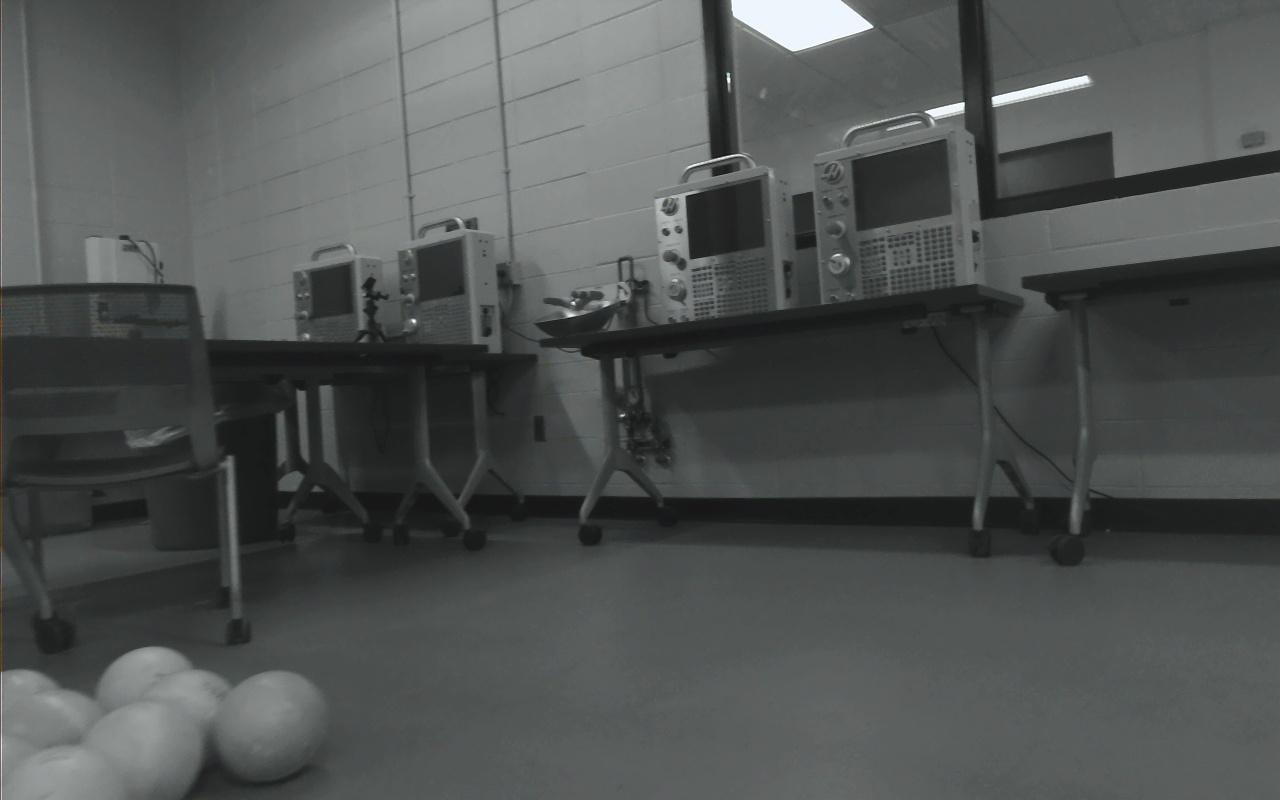Fuel: (211, 670, 326, 782), (83, 697, 204, 799), (142, 668, 233, 770), (1, 688, 104, 760), (4, 742, 131, 800), (96, 645, 195, 716), (0, 668, 61, 722), (0, 731, 40, 800)
